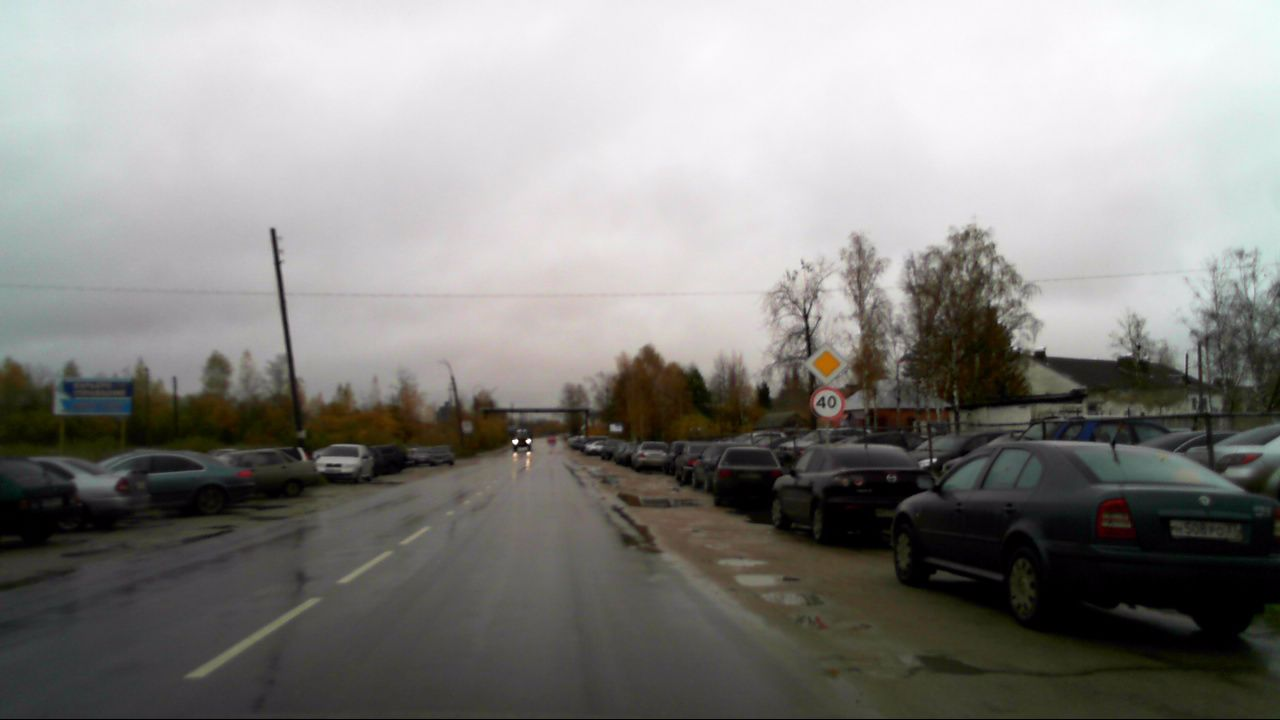speed_warning_40: (808, 386, 845, 421)
